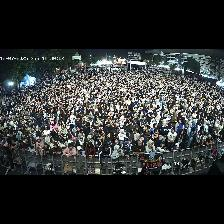person: (99, 145, 112, 169), (20, 134, 44, 144), (167, 128, 176, 150), (132, 140, 144, 155), (159, 122, 168, 141), (86, 142, 95, 161), (63, 144, 76, 157), (112, 145, 124, 159), (94, 135, 103, 152), (188, 127, 196, 146), (177, 119, 187, 134), (197, 125, 205, 143), (155, 140, 167, 152), (146, 140, 156, 154), (52, 142, 62, 156), (144, 132, 153, 147), (132, 133, 142, 146), (55, 131, 66, 142), (118, 129, 126, 144), (130, 120, 139, 133), (59, 138, 68, 151), (43, 143, 52, 156), (122, 143, 130, 157), (151, 124, 158, 140), (124, 137, 132, 151), (190, 135, 199, 147), (104, 133, 113, 145), (19, 141, 28, 152), (112, 138, 120, 150), (71, 137, 79, 148), (130, 129, 137, 141), (29, 141, 35, 155), (36, 137, 43, 149), (50, 138, 58, 148), (50, 120, 57, 131), (46, 133, 52, 145), (77, 146, 85, 155), (78, 133, 84, 145), (14, 141, 20, 153), (60, 125, 67, 135), (82, 139, 88, 150), (99, 130, 105, 141), (120, 116, 126, 127), (172, 112, 177, 125), (36, 147, 43, 156), (187, 124, 192, 136), (206, 135, 212, 145), (175, 137, 180, 149), (212, 136, 219, 144), (88, 135, 94, 144), (44, 126, 50, 134), (140, 168, 148, 174), (67, 134, 72, 143), (41, 133, 45, 143), (11, 140, 15, 149)
